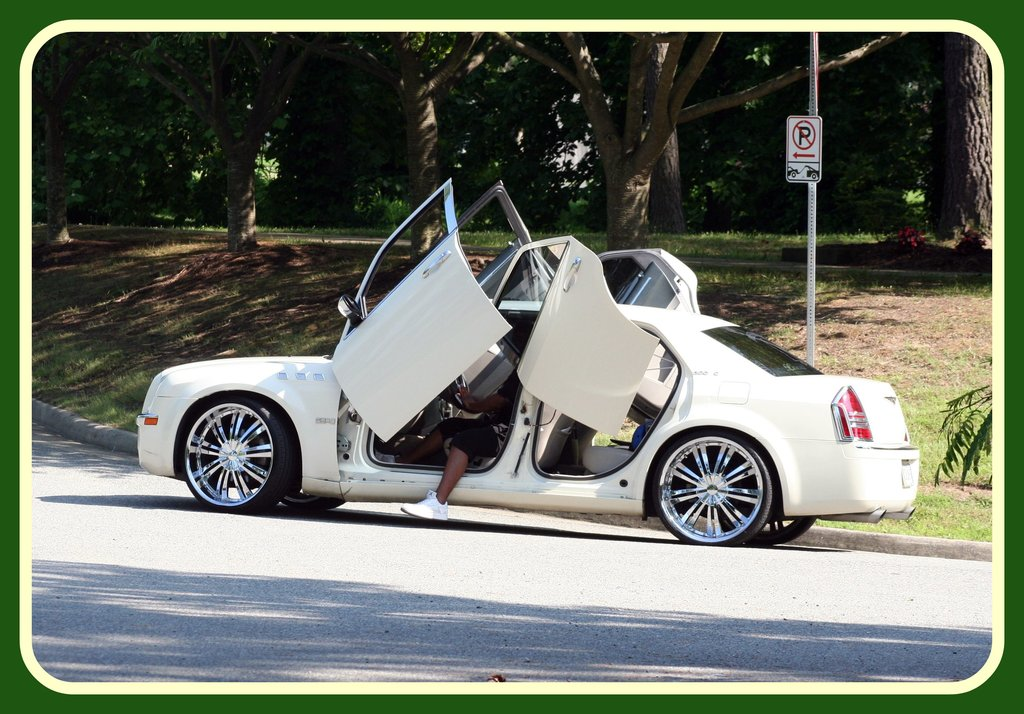Car: (133, 178, 927, 545)
